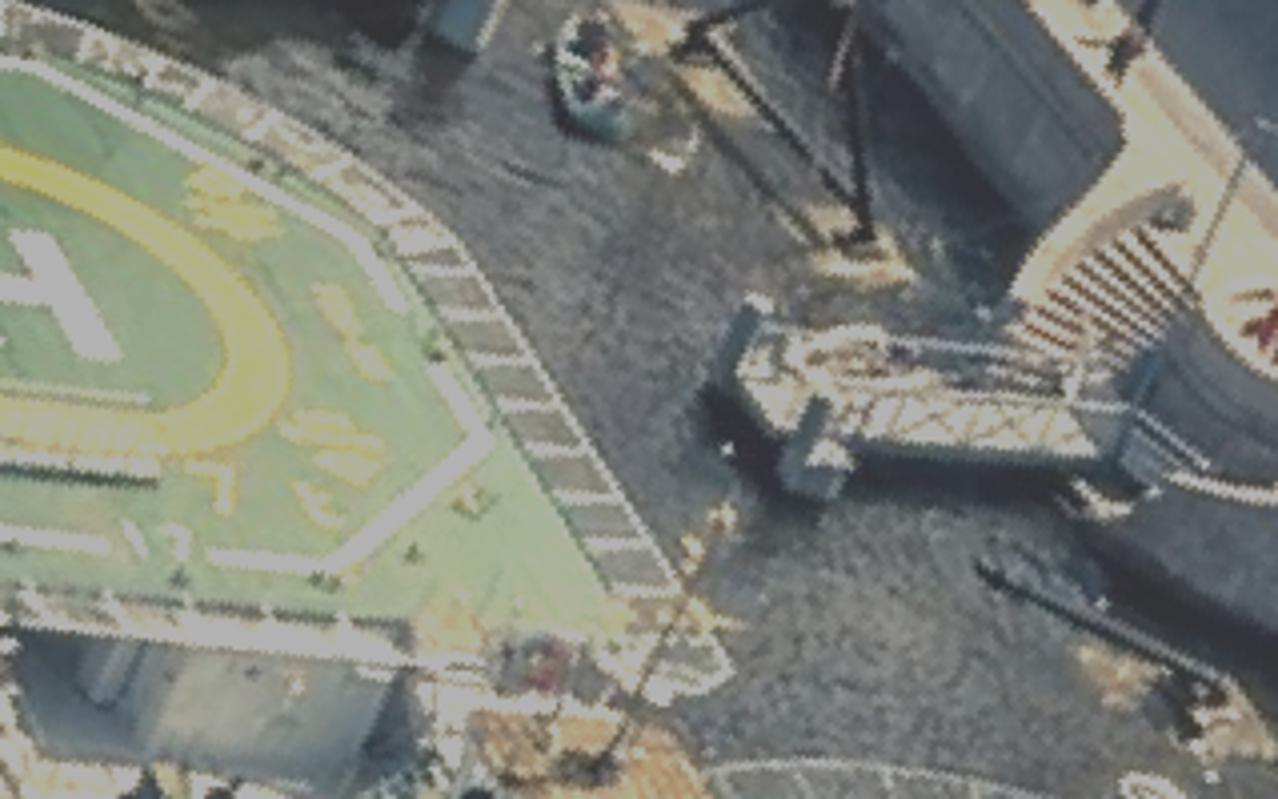Apron: (1, 120, 306, 474)
